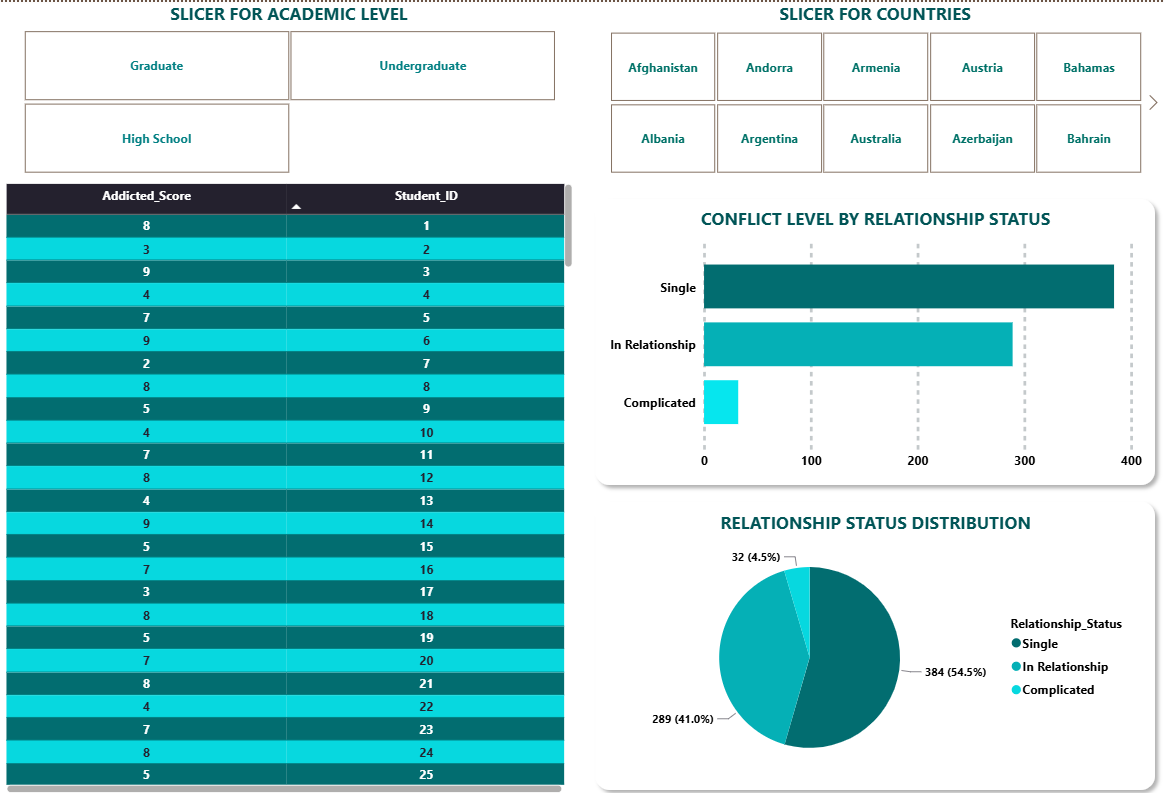

The page's visual inventory and layout, read from the dashboard file:
{"tool":"powerbi","page":{"name":"RELATIONSHIPS AND CONFLICTS","canvas":[1280,870],"ordinal":3},"visuals":[{"type":"tableEx","fields":{"Values":["Student Details.Addicted_Score","Student Details.Student_ID"]},"box":[10,193.9,630,675.6],"z":0},{"type":"shape","box":[650.4,205.8,629.8,330.7],"z":1000},{"type":"shape","box":[650.4,536.5,629.8,333.4],"z":2000},{"type":"barChart","title":"CONFLICT LEVEL BY RELATIONSHIP STATUS","fields":{"Category":["Student Details.Relationship_Status"],"Y":["CountNonNull(Student Details.Conflict Level)"]},"box":[669.6,223.7,592.8,296.4],"z":3000},{"type":"pieChart","title":"RELATIONSHIP STATUS DISTRIBUTION","fields":{"Category":["Student Details.Relationship_Status"],"Y":["CountNonNull(Student Details.Student_ID)"]},"box":[669.6,555.7,592.8,296.4],"z":4000},{"type":"slicer","title":"SLICER FOR COUNTRIES","fields":{"Values":["Student Details.Country"]},"box":[650.4,0,629.8,193.5],"z":5000},{"type":"slicer","title":"SLICER FOR ACADEMIC LEVEL","fields":{"Values":["Student Details.Academic_Level"]},"box":[9.6,0,629.8,193.5],"z":6000}]}

Visuals, with their boxes in screenshot pixels (x1, y1, x2, y2), scaled from the page's 1280x870 canvas onto the 1164x793 screenshot:
tableEx - Student Details.Addicted_Score x Student Details.Student_ID: <region>9, 177, 582, 792</region>
shape: <region>591, 188, 1163, 489</region>
shape: <region>591, 489, 1163, 792</region>
"CONFLICT LEVEL BY RELATIONSHIP STATUS" barChart: <region>609, 204, 1148, 474</region>
"RELATIONSHIP STATUS DISTRIBUTION" pieChart: <region>609, 507, 1148, 777</region>
"SLICER FOR COUNTRIES" slicer: <region>591, 0, 1163, 176</region>
"SLICER FOR ACADEMIC LEVEL" slicer: <region>9, 0, 581, 176</region>
